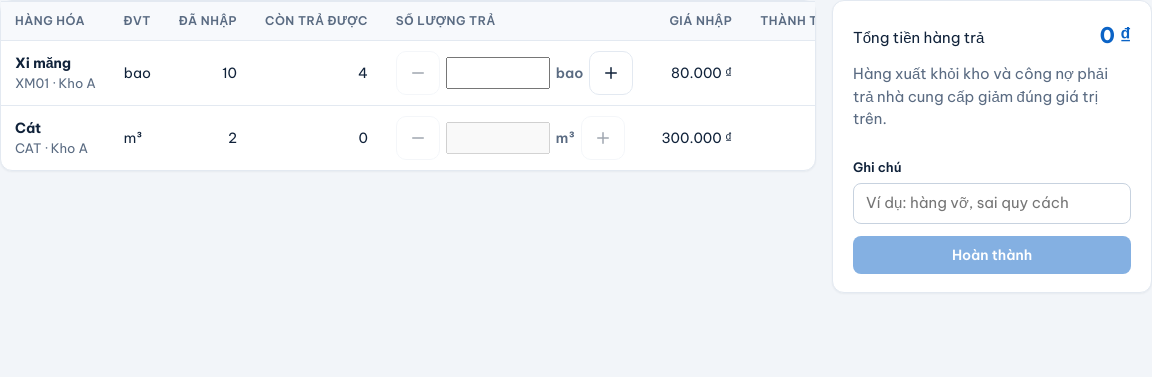
Test: shows lines in purchase units and blocks more than what is left (FB10)
Check: the button "Hoàn thành" is disabled, box [853, 236, 1131, 274]
Type "5" into the field named "Số lượng trả Xi măng".
click(498, 73); type("5")  # box [446, 57, 550, 89]
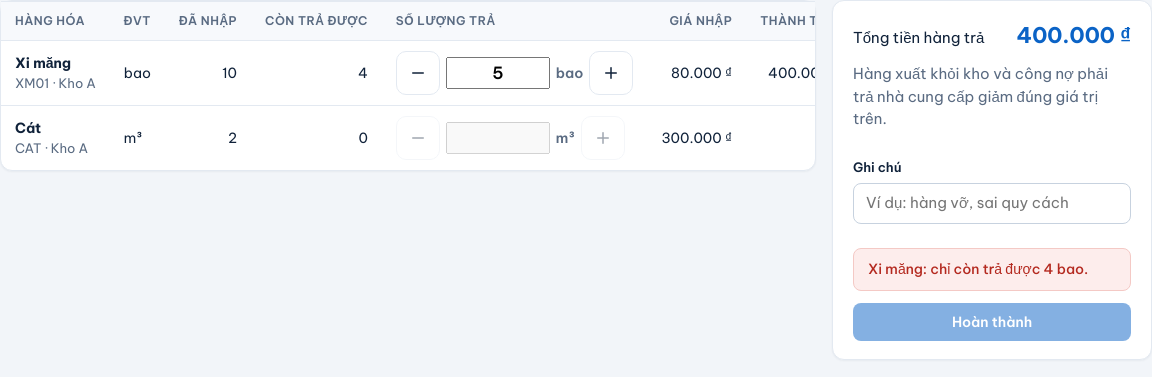
Check: the message reads "Xi măng: chỉ còn trả được 4 bao.", box [853, 248, 1131, 291]
Replace the text in the field named "Số lượng trả Xi măng" with "2" at [498, 73], box [446, 57, 550, 89]
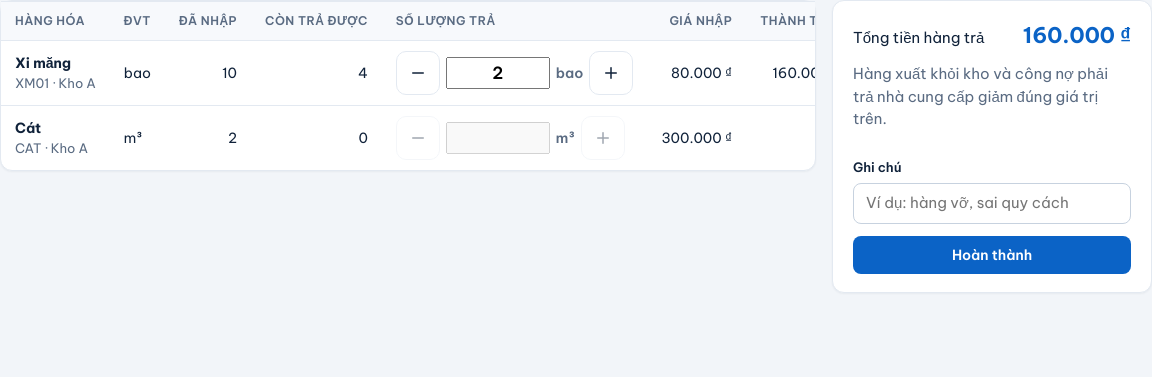
Check: the text "160.000 ₫" is shown, box [1023, 19, 1131, 51]
Check: the button "Hoàn thành" is enabled, box [853, 236, 1131, 274]
